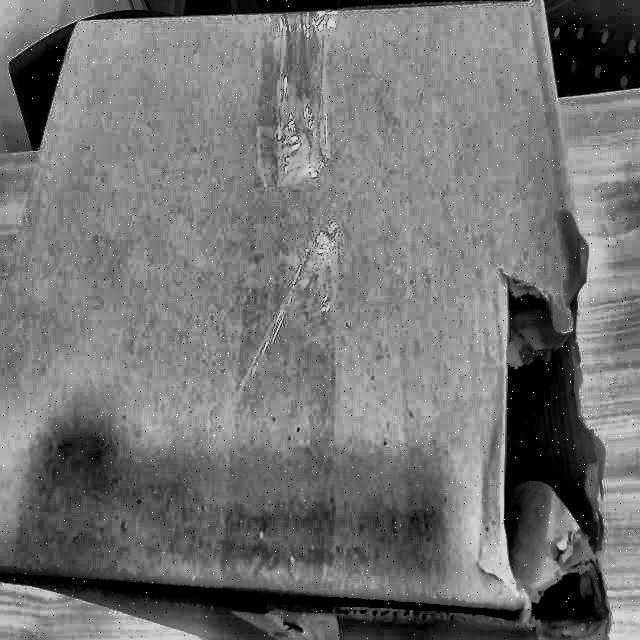box: (1, 0, 625, 639)
hole: (490, 206, 608, 640)
